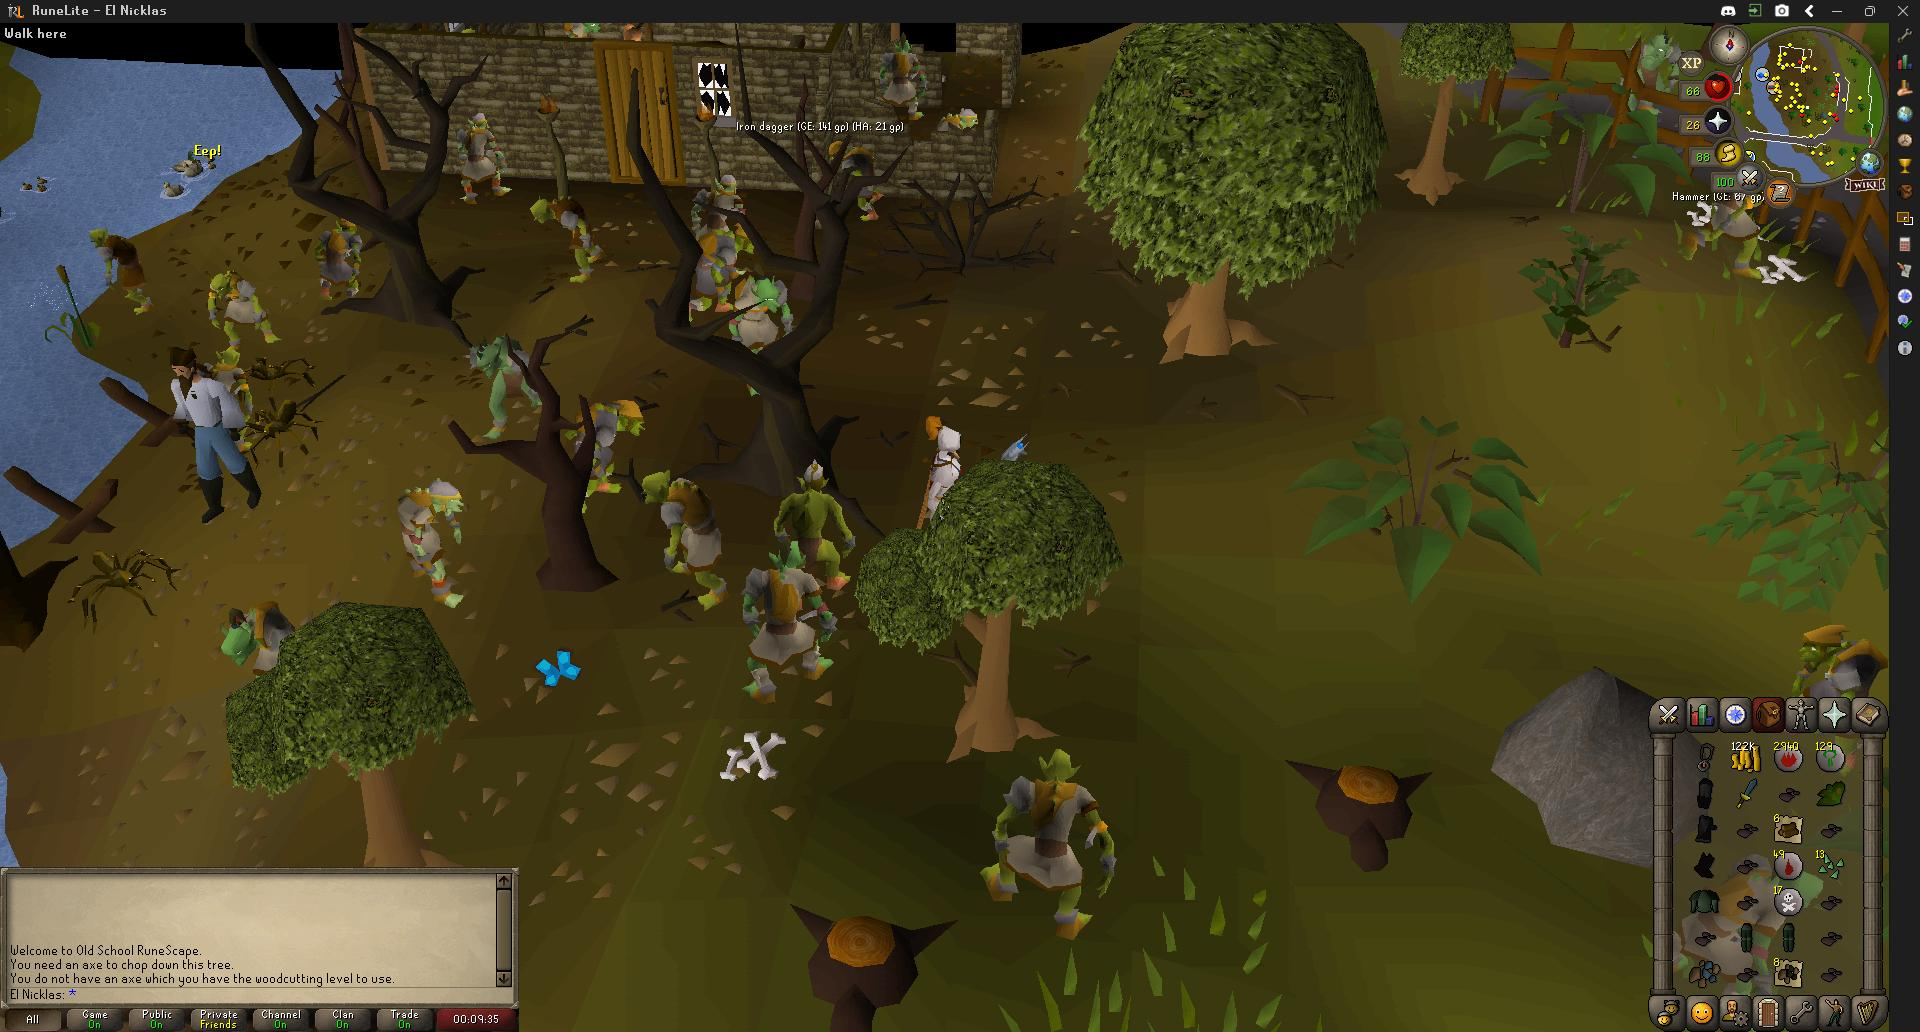goblin: (982, 742, 1111, 920), (529, 97, 609, 285), (741, 550, 837, 677), (770, 458, 856, 590), (1775, 601, 1892, 691), (562, 395, 642, 510), (466, 332, 544, 445), (689, 202, 756, 328), (666, 482, 728, 606), (398, 489, 466, 601), (726, 269, 797, 360), (452, 108, 513, 205), (206, 266, 277, 348), (88, 225, 151, 316), (198, 355, 258, 447), (220, 600, 295, 666), (314, 217, 363, 301), (882, 36, 928, 125), (827, 142, 878, 221), (691, 172, 745, 245), (940, 108, 978, 133), (562, 23, 607, 41)
